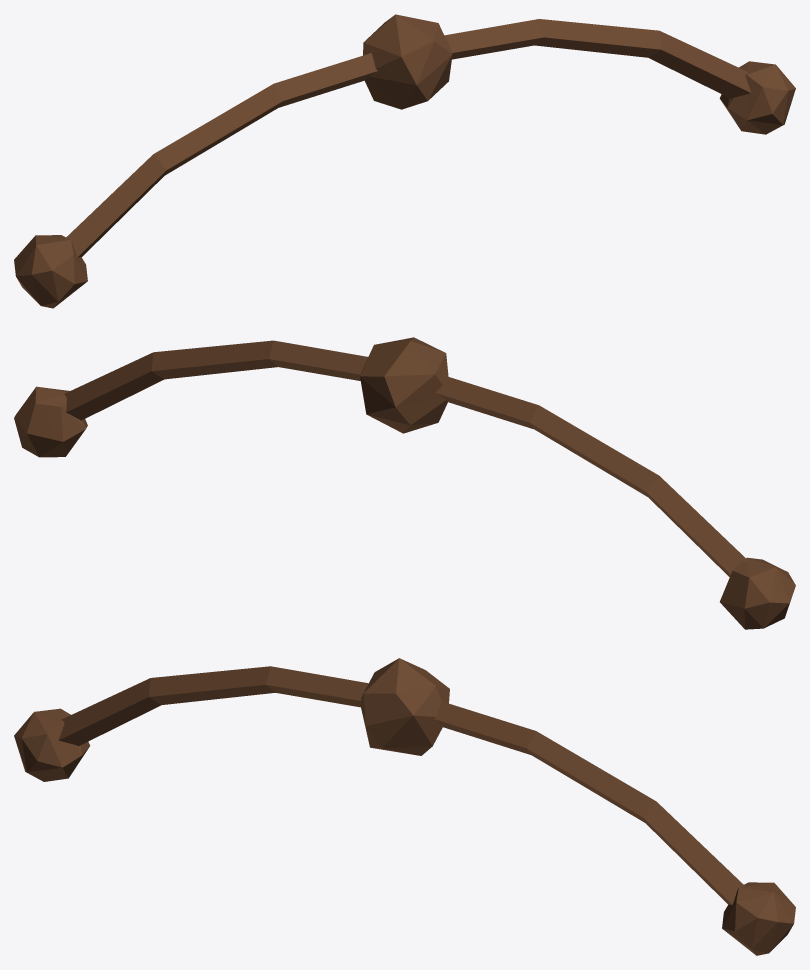
The model's file is Axis.fbx.
3 views of the same model, one above another, from view 1: azimuth 30°, elevation 25°; view 2: azimuth 150°, elevation 25°; view 3: azimuth 330°, elevation 25° (orthographic).
Visible parts, largest first — view 1: Eixo; view 2: Eixo; view 3: Eixo.
Boxes of the visible parts, x1,y1,x2,y2 form: Eixo: [14, 14, 795, 308]; Eixo: [14, 337, 795, 629]; Eixo: [14, 658, 795, 955].
Size of the model in its own units: 477 by 120 by 51.86.
